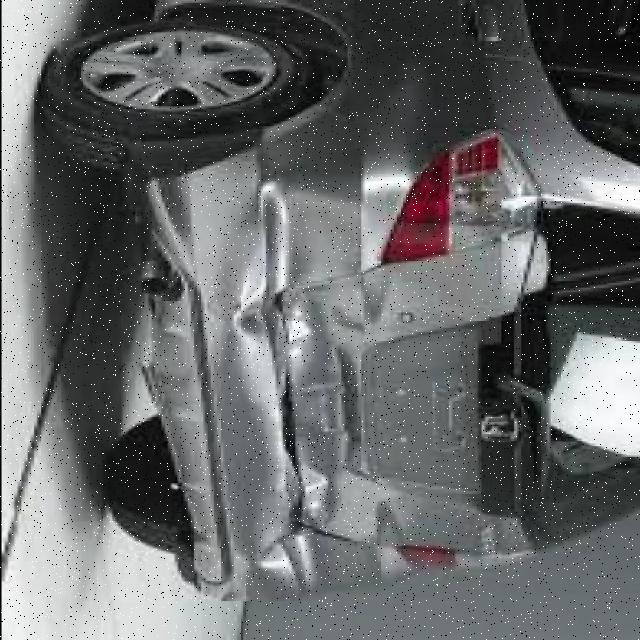damage: (138, 164, 424, 610)
